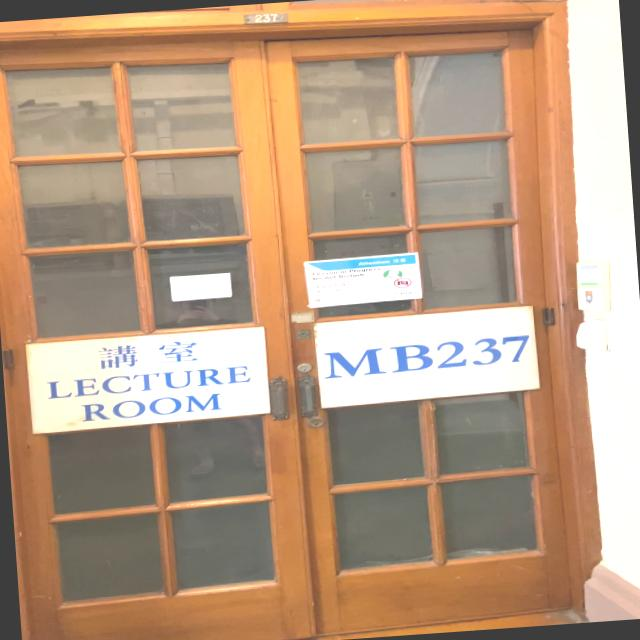room237: (237, 10, 294, 30)
room237Window: (319, 327, 532, 382)
